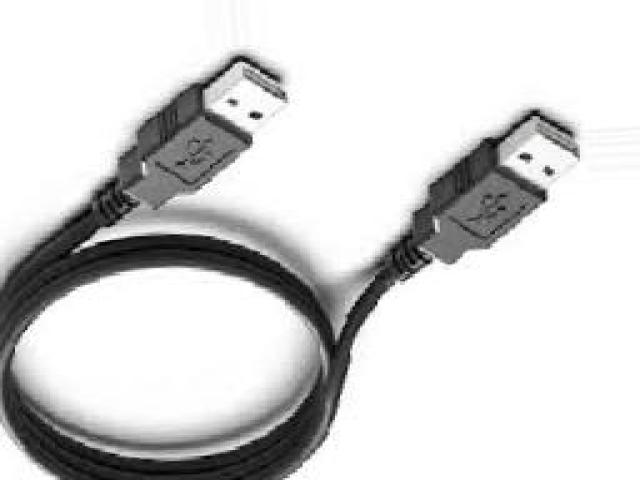wire: (0, 50, 582, 478)
